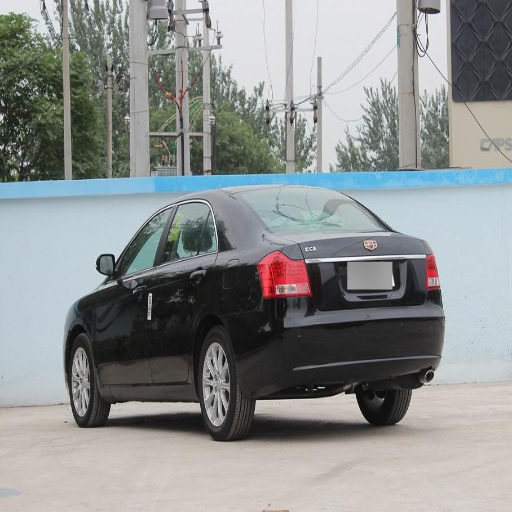back_bumper: (242, 297, 443, 394)
back_glass: (274, 188, 380, 230)
back_left_door: (151, 198, 217, 385)
tailgate: (297, 228, 423, 317)
